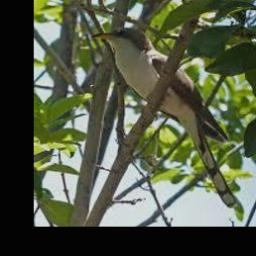Cuckoo: (91, 27, 238, 207)
